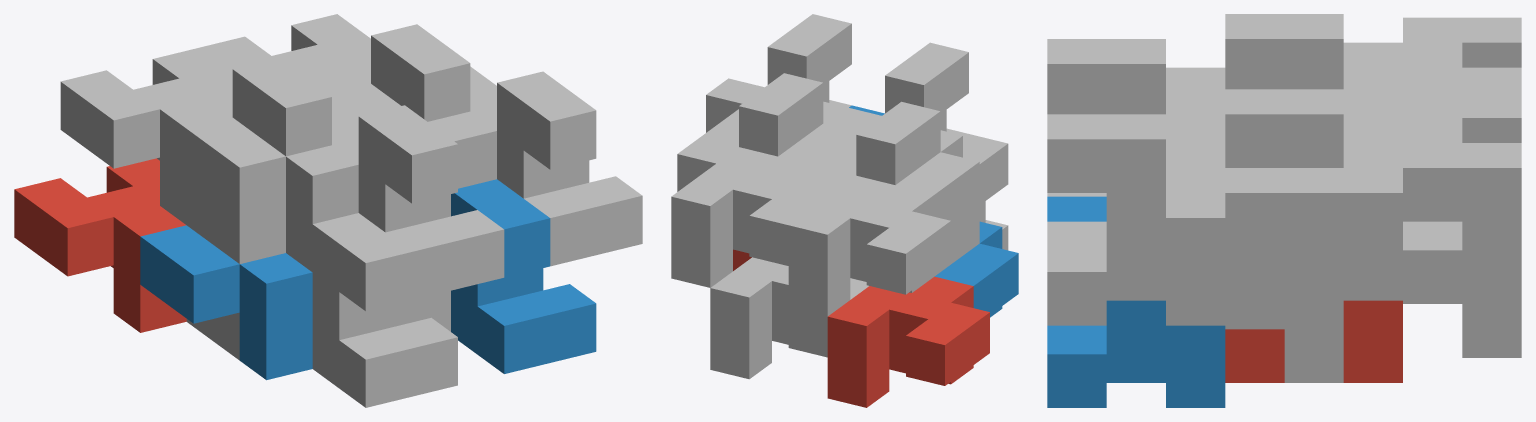
The model's file is tiling.obj.
3 renders of one model, left to right at view 1: azimuth 30°, elevation 25°; view 2: azimuth 150°, elevation 25°; view 3: azimuth 270°, elevation 25°, orthographic. The views are drawn at different scales.
Parts seen in each view (by area): view 1: copy_2_domain_2, copy_2_domain_8, copy_2_domain_4, copy_2_domain_6, copy_1_domain_2, copy_1_domain_1, copy_1_domain_3, copy_1_domain_4, copy_2_domain_3, copy_2_domain_7, copy_1_domain_7, copy_2_domain_1 (+2 smaller); view 2: copy_1_domain_3, copy_1_domain_1, copy_1_domain_7, copy_1_domain_5, copy_2_domain_7, copy_2_domain_3, copy_2_domain_8, copy_2_domain_4, copy_1_domain_4, copy_1_domain_2, copy_1_domain_8, copy_2_domain_2 (+1 smaller); view 3: copy_2_domain_8, copy_2_domain_7, copy_1_domain_7, copy_2_domain_6, copy_1_domain_8, copy_2_domain_4, copy_2_domain_3, copy_1_domain_3, copy_1_domain_5, copy_2_domain_5, copy_1_domain_6, copy_1_domain_4.
Boxes of the visible parts, box(x1,y1,x2,y2) form: copy_2_domain_2: box(312, 213, 457, 407); copy_2_domain_8: box(470, 71, 642, 266); copy_2_domain_4: box(332, 105, 504, 299); copy_2_domain_6: box(451, 179, 596, 373); copy_1_domain_2: box(140, 225, 312, 380); copy_1_domain_1: box(14, 158, 186, 332); copy_1_domain_3: box(60, 48, 232, 224); copy_1_domain_4: box(186, 100, 358, 272); copy_2_domain_3: box(206, 58, 331, 156); copy_2_domain_7: box(344, 24, 470, 121); copy_1_domain_7: box(199, 14, 370, 93); copy_2_domain_1: box(186, 177, 285, 360); copy_1_domain_3: box(788, 185, 950, 316); copy_1_domain_1: box(827, 276, 989, 407); copy_1_domain_7: box(671, 156, 833, 287); copy_1_domain_5: box(710, 257, 868, 379); copy_2_domain_7: box(677, 73, 823, 191); copy_2_domain_3: box(795, 101, 940, 201); copy_2_domain_8: box(706, 14, 851, 132); copy_2_domain_4: box(823, 42, 968, 137); copy_1_domain_4: box(817, 130, 979, 223); copy_1_domain_2: box(935, 221, 1018, 317); copy_1_domain_8: box(700, 101, 858, 165); copy_2_domain_2: box(963, 134, 1008, 250); copy_2_domain_8: box(1047, 114, 1225, 325); copy_2_domain_7: box(1225, 89, 1402, 300); copy_1_domain_7: box(1343, 92, 1521, 275); copy_2_domain_6: box(1047, 196, 1225, 407); copy_1_domain_8: box(1166, 143, 1343, 300); copy_2_domain_4: box(1047, 39, 1225, 196); copy_2_domain_3: box(1225, 14, 1402, 117); copy_1_domain_3: box(1343, 17, 1521, 92); copy_1_domain_5: box(1403, 221, 1521, 357); copy_2_domain_5: box(1225, 300, 1402, 382); copy_1_domain_6: box(1225, 300, 1343, 382); copy_1_domain_4: box(1166, 67, 1225, 92).
Size of the model in its own units: 9 by 5 by 8.
